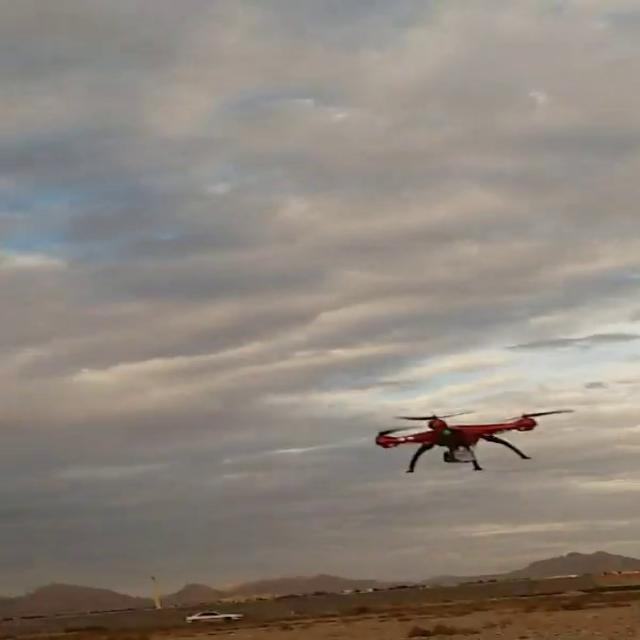drone: (360, 399, 582, 476)
